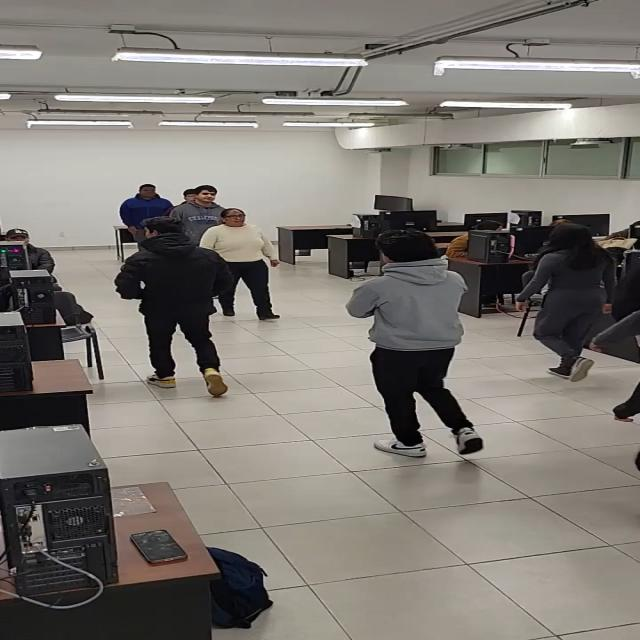Persona: (345, 228, 488, 458), (113, 215, 239, 398), (513, 223, 624, 381), (199, 208, 284, 322), (118, 182, 180, 252), (171, 185, 233, 244)
